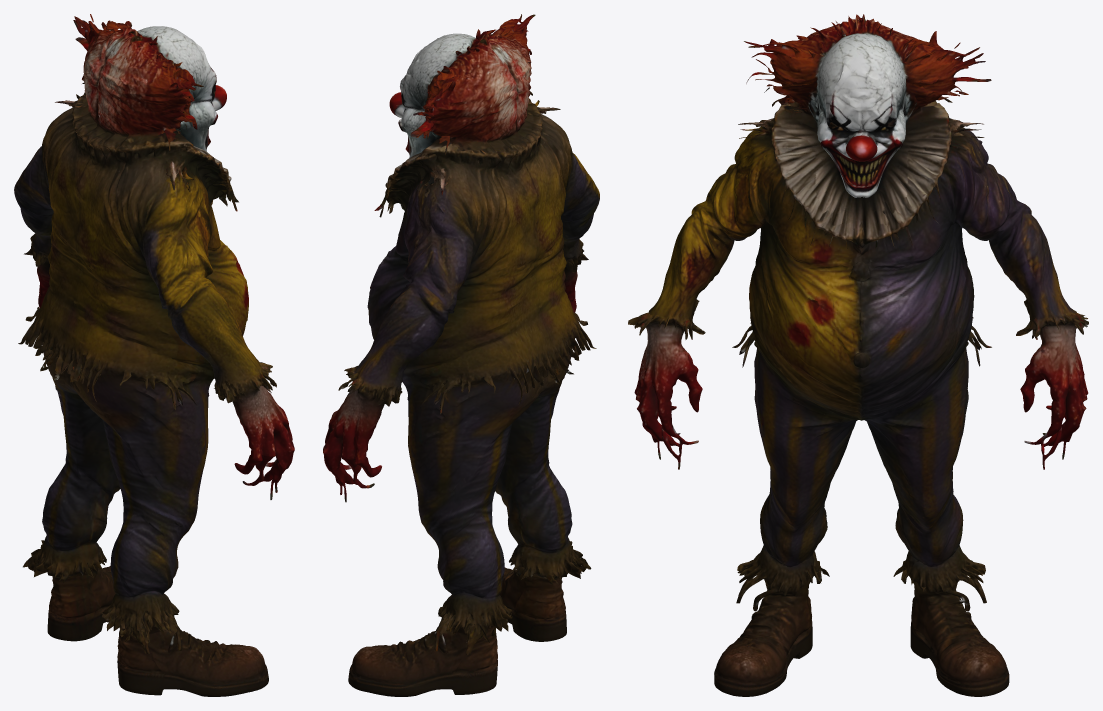
File: Payaso.fbx
3 renders of one model, left to right at view 1: azimuth 30°, elevation 25°; view 2: azimuth 150°, elevation 25°; view 3: azimuth 270°, elevation 25°, orthographic. The views are drawn at different scales.
Visible parts, largest first — view 1: tripo_node_f756c091; view 2: tripo_node_f756c091; view 3: tripo_node_f756c091.
Boxes of the visible parts, <box> form: tripo_node_f756c091: <box>14,14,294,696</box>; tripo_node_f756c091: <box>323,14,599,696</box>; tripo_node_f756c091: <box>628,14,1088,696</box>.
Size of the model in its own units: 0.3252 by 1 by 0.6481.
1 material, 1 textured.
